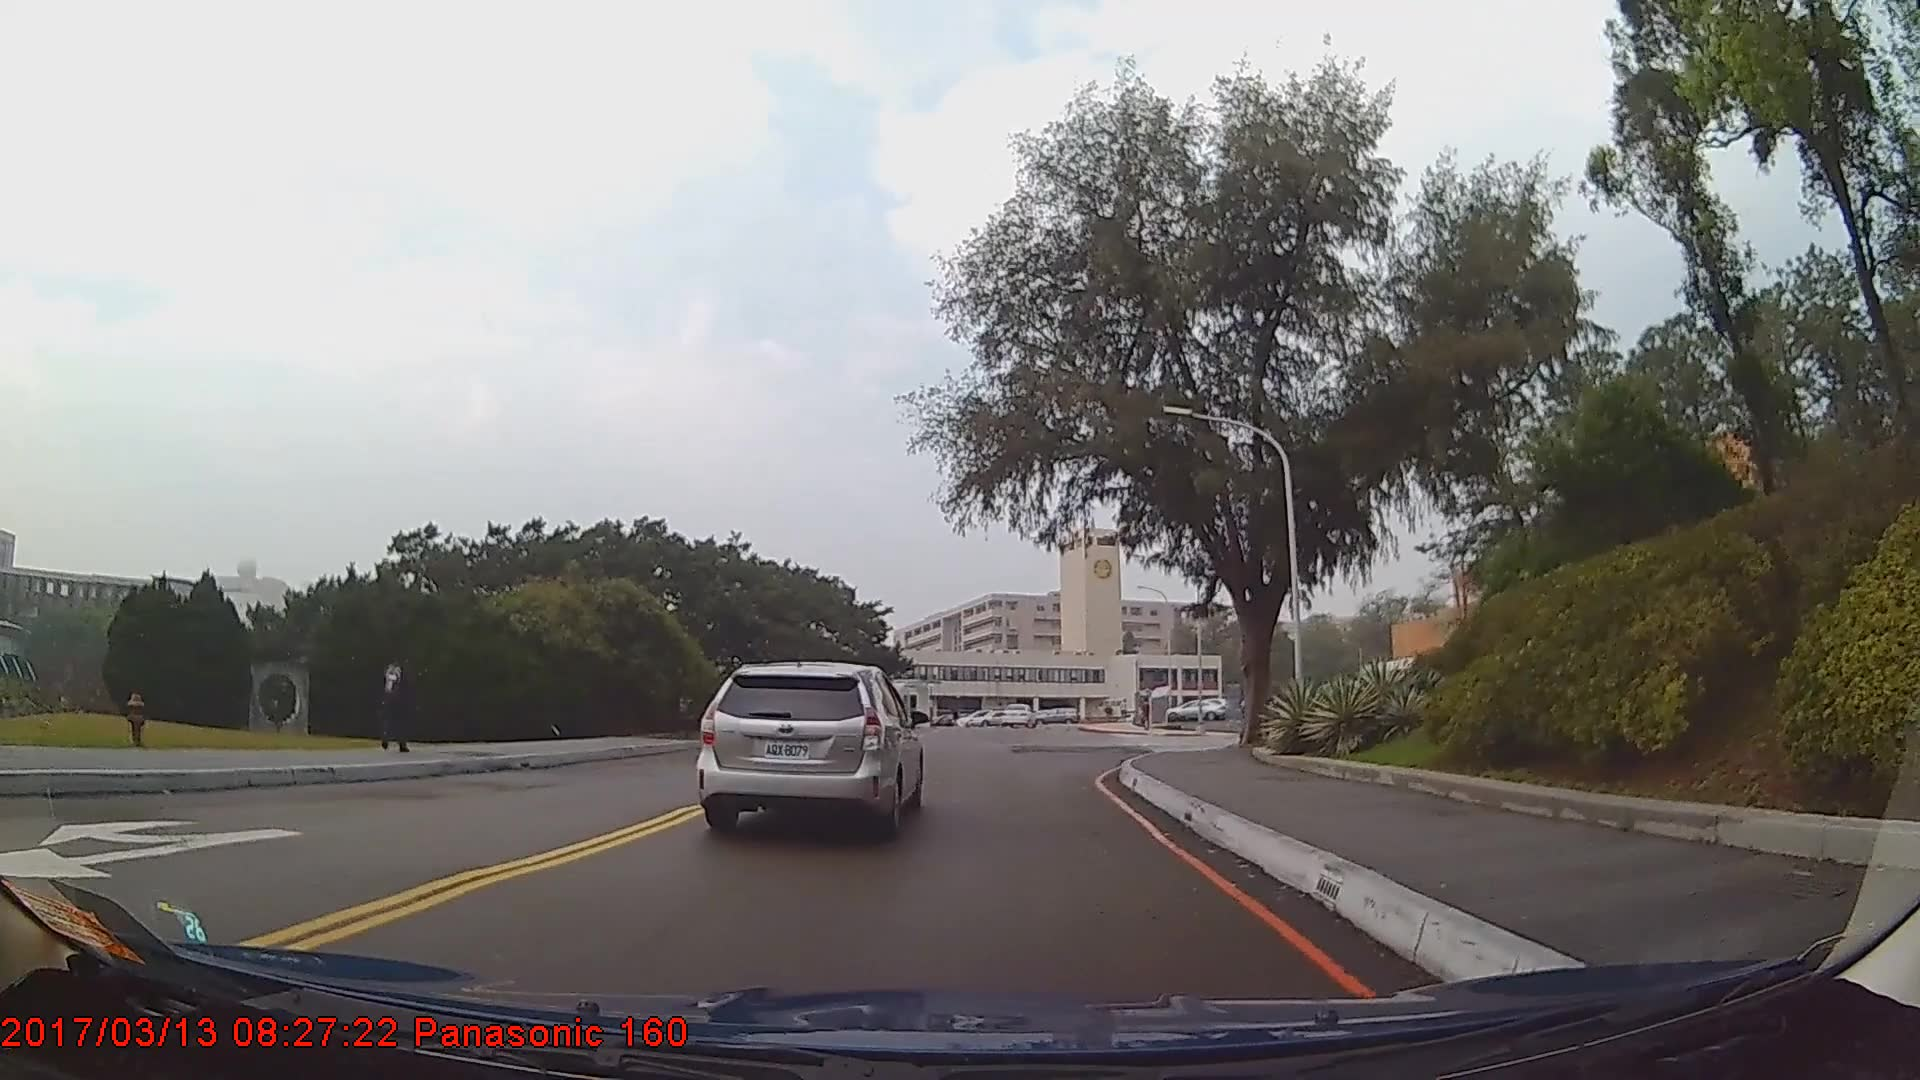pedestrian: (367, 647, 417, 756)
vehicle: (696, 659, 925, 840), (1163, 699, 1223, 721), (966, 703, 1015, 728), (996, 701, 1036, 728)
